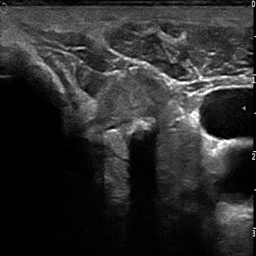mass: (93, 75, 167, 131)
